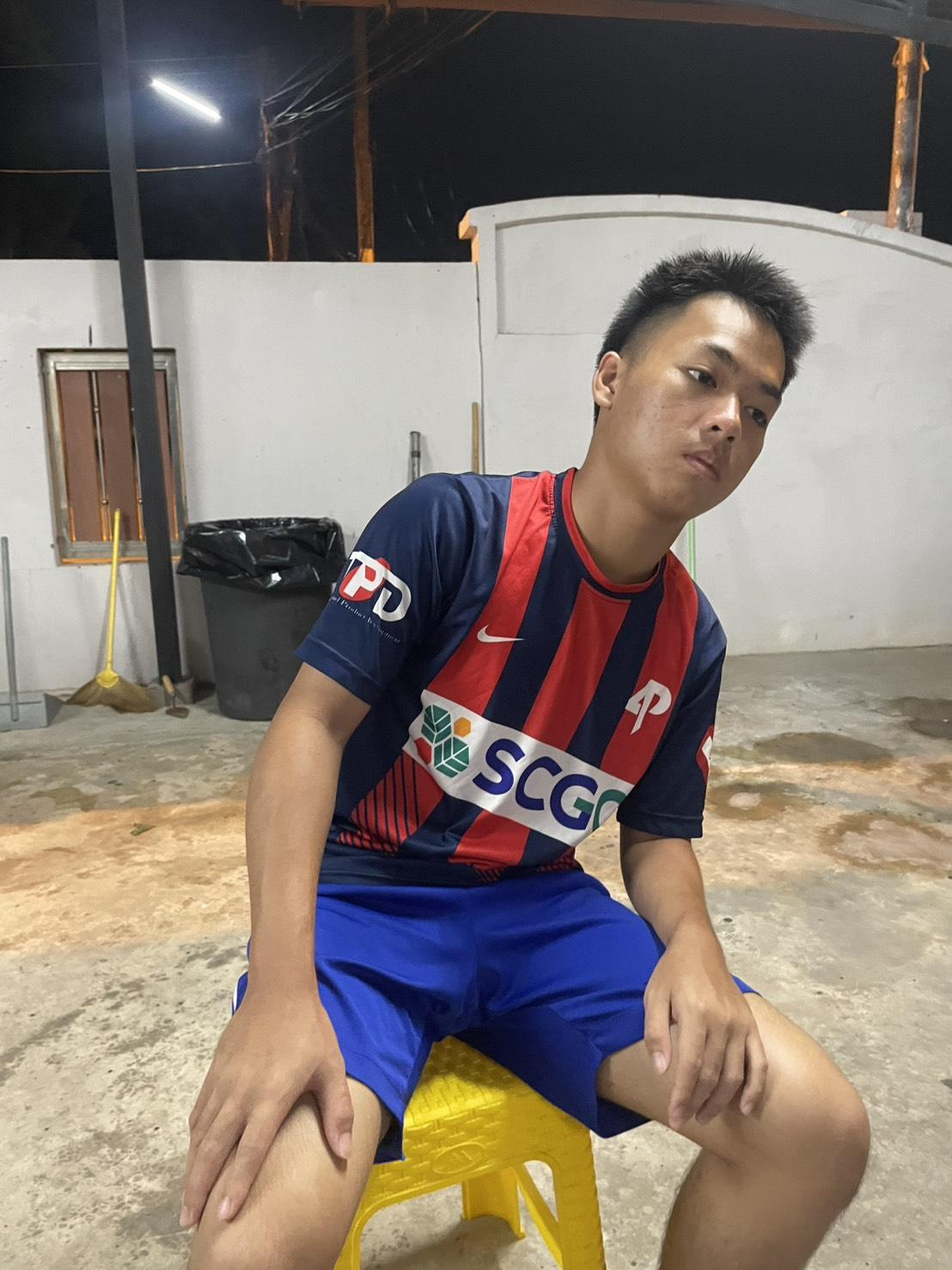BadPosture: (322, 235, 812, 886)
